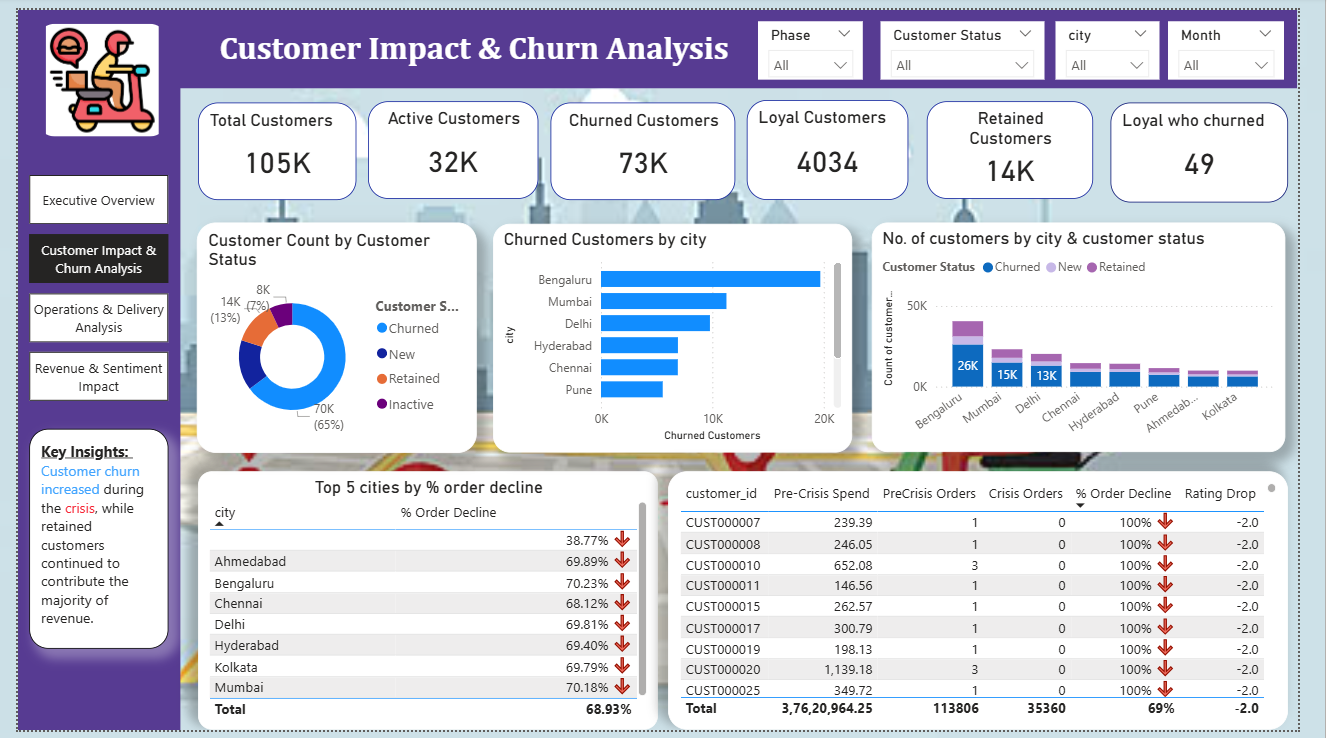

The dashboard page shown, as its layout file describes it:
{"tool":"powerbi","page":{"name":"Customer Impact & Churn Analysis","canvas":[1280,720],"ordinal":1},"visuals":[{"type":"shape","box":[126.9,0,1153.1,78.3],"z":0},{"type":"shape","box":[0,0,162.5,720],"z":1000},{"type":"textbox","box":[127.2,13.5,664,50.1],"z":2000},{"type":"image","box":[17.1,13.5,133.3,112.5],"z":3000},{"type":"card","title":"Total Customers","fields":{"Values":["Measure.Total Customers"]},"box":[180,92.5,158.8,97.5],"z":4000},{"type":"card","title":"Loyal who churned","fields":{"Values":["Measure.Loyal Who Churned"]},"box":[1092.5,92.5,177.5,100],"z":5000},{"type":"card","title":"Retained Customers","fields":{"Values":["Measure.Retained Customers"]},"box":[908.8,91.2,166.2,97.5],"z":6000},{"type":"tableEx","title":"Top 5 cities by % order decline","fields":{"Values":["dim_customer.city","fact_orders.% Order Decline"]},"box":[180,461.2,460,258.8],"z":7000},{"type":"card","title":"Active Customers","fields":{"Values":["fact_orders.Active Customers"]},"box":[350,91.2,170,97.5],"z":8000},{"type":"card","title":"Loyal Customers","fields":{"Values":["fact_orders.Loyal Customers"]},"box":[728.8,90,161.2,100],"z":9000},{"type":"card","title":"Churned Customers","fields":{"Values":["fact_orders.Churned Customers"]},"box":[532.5,92.5,185,97.5],"z":10000},{"type":"donutChart","fields":{"Category":["dim_customer.Customer Status"],"Y":["dim_customer.Customer Count"]},"box":[178.8,212.5,280,230],"z":11000},{"type":"clusteredBarChart","fields":{"Y":["fact_orders.Churned Customers"],"Category":["dim_customer.city"]},"box":[474.5,214,359.5,228.7],"z":12000},{"type":"tableEx","fields":{"Values":["dim_customer.customer_id","Measure.Pre-Crisis Spend","fact_orders.PreCrisis Orders","fact_orders.Crisis Orders","fact_orders.% Order Decline","Measure.Rating Drop"]},"box":[650,461.2,620,258.8],"z":13000},{"type":"columnChart","title":"No. of customers by city & customer status","fields":{"Category":["dim_customer.city"],"Series":["dim_customer.Customer Status"],"Y":["CountNonNull(fact_orders.customer_id)"]},"box":[853.5,212.8,413.3,229.9],"z":14000},{"type":"pageNavigator","box":[11,165.1,139.4,229.9],"z":15000},{"type":"slicer","fields":{"Values":["dim_date.Phase"]},"box":[739.8,11,105.2,58.7],"z":16000},{"type":"slicer","fields":{"Values":["dim_customer.Customer Status"]},"box":[862.1,11,163.9,58.7],"z":17000},{"type":"slicer","fields":{"Values":["dim_customer.city"]},"box":[1037,11,103.9,58.7],"z":18000},{"type":"slicer","fields":{"Values":["dim_date.Month"]},"box":[1149.5,11,116.2,58.7],"z":19000},{"type":"textbox","box":[11,418.2,139.4,220.1],"z":20000}]}

Visuals, with their boxes in screenshot pixels (x1, y1, x2, y2), scaled from the page's 1280x720 canvas onto the 1327x738 screenshot:
shape: detection(132, 0, 1326, 80)
shape: detection(0, 0, 168, 737)
textbox: detection(132, 14, 820, 65)
image: detection(18, 14, 156, 129)
"Total Customers" card: detection(187, 95, 351, 195)
"Loyal who churned" card: detection(1133, 95, 1317, 197)
"Retained Customers" card: detection(942, 93, 1114, 193)
"Top 5 cities by % order decline" tableEx: detection(187, 473, 664, 737)
"Active Customers" card: detection(363, 93, 539, 193)
"Loyal Customers" card: detection(756, 92, 923, 195)
"Churned Customers" card: detection(552, 95, 744, 195)
donutChart - dim_customer.Customer Status x dim_customer.Customer Count: detection(185, 218, 476, 454)
clusteredBarChart - fact_orders.Churned Customers x dim_customer.city: detection(492, 219, 865, 454)
tableEx - dim_customer.customer_id x Measure.Pre-Crisis Spend: detection(674, 473, 1317, 737)
"No. of customers by city & customer status" columnChart: detection(885, 218, 1313, 454)
pageNavigator: detection(11, 169, 156, 405)
slicer - dim_date.Phase: detection(767, 11, 876, 71)
slicer - dim_customer.Customer Status: detection(894, 11, 1064, 71)
slicer - dim_customer.city: detection(1075, 11, 1183, 71)
slicer - dim_date.Month: detection(1192, 11, 1312, 71)
textbox: detection(11, 429, 156, 654)
